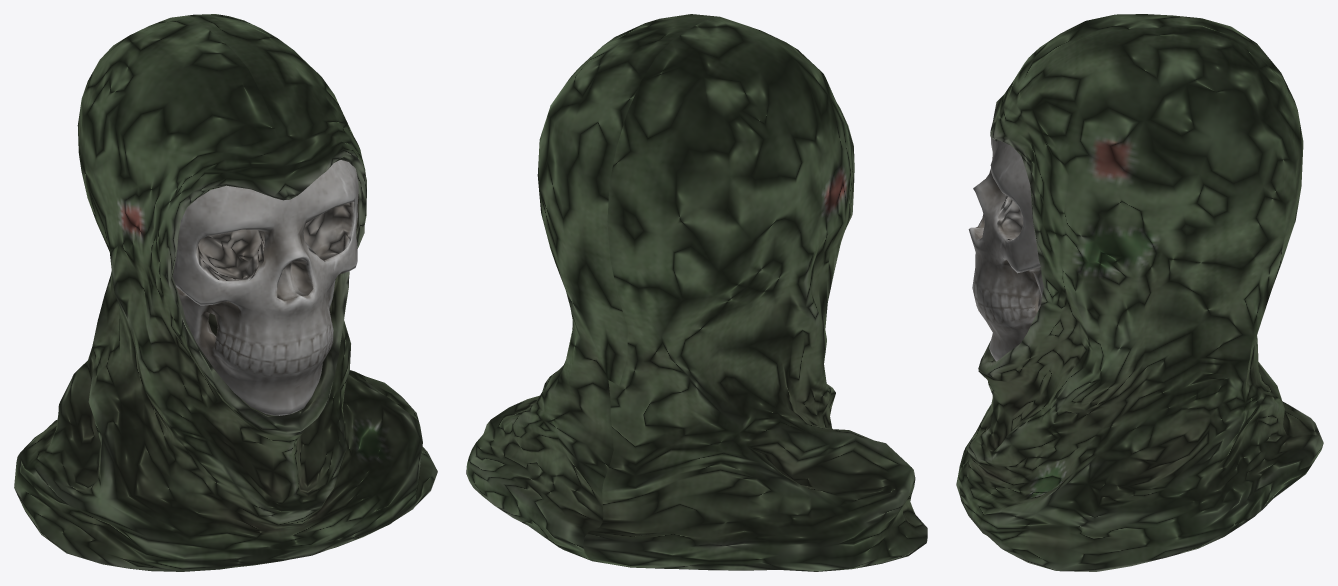
The model's file is skeleton-head-bust---skull-with-fabric-e229ba.glb.
The picture shows the model from 3 angles, left to right: view 1: azimuth 30°, elevation 25°; view 2: azimuth 150°, elevation 25°; view 3: azimuth 270°, elevation 25°; orthographic projection. The views are drawn at different scales.
Parts seen in each view (by area): view 1: PropMesh; view 2: PropMesh; view 3: PropMesh.
Boxes of the visible parts, <box> form: PropMesh: <box>14,14,437,571</box>; PropMesh: <box>466,14,927,571</box>; PropMesh: <box>956,14,1323,571</box>.
Size of the model in its own units: 0.2403 by 0.28 by 0.2011.
2 materials, 2 textured.
